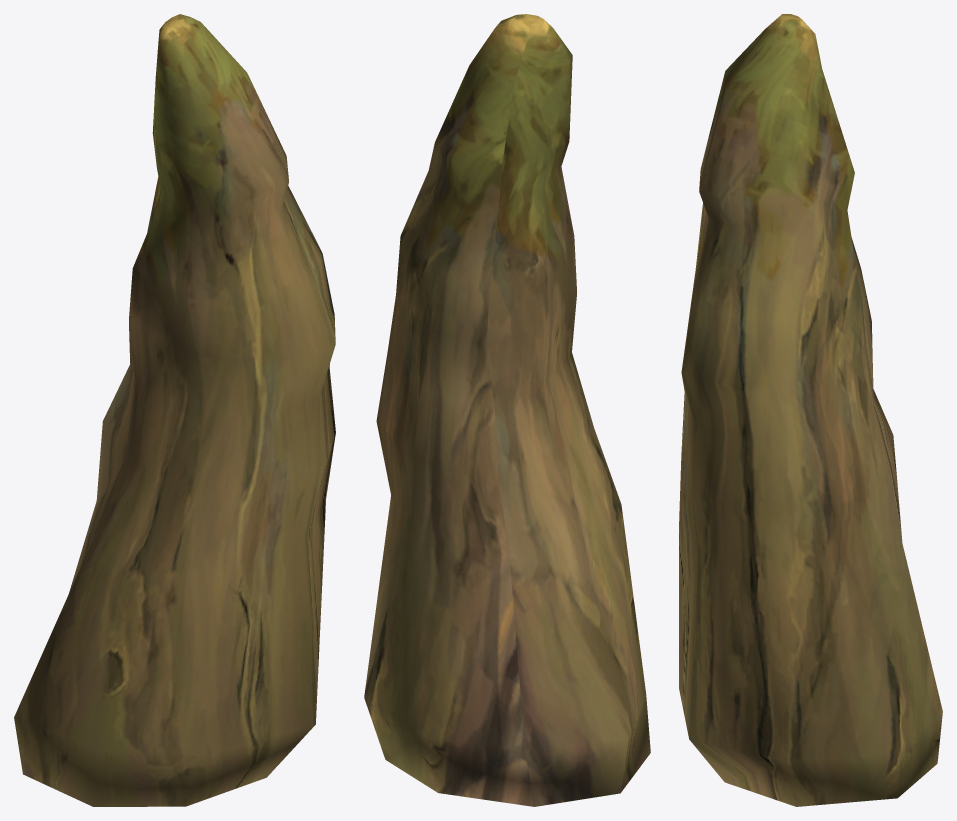
Rendered from hut_env_cypress_elbow02.glb.
The picture shows the model from 3 angles, left to right: view 1: azimuth 30°, elevation 25°; view 2: azimuth 150°, elevation 25°; view 3: azimuth 270°, elevation 25°; orthographic projection. The views are drawn at different scales.
Parts seen in each view (by area): view 1: hut_env_cypress_elbow02; view 2: hut_env_cypress_elbow02; view 3: hut_env_cypress_elbow02.
Part boxes in pixels (x1,y1,x2,y2): hut_env_cypress_elbow02: (14,14,335,806); hut_env_cypress_elbow02: (364,14,650,806); hut_env_cypress_elbow02: (679,14,942,806).
Size of the model in its own units: 0.1038 by 0.2707 by 0.0876.
Materials: 1 (1 with a texture image).
